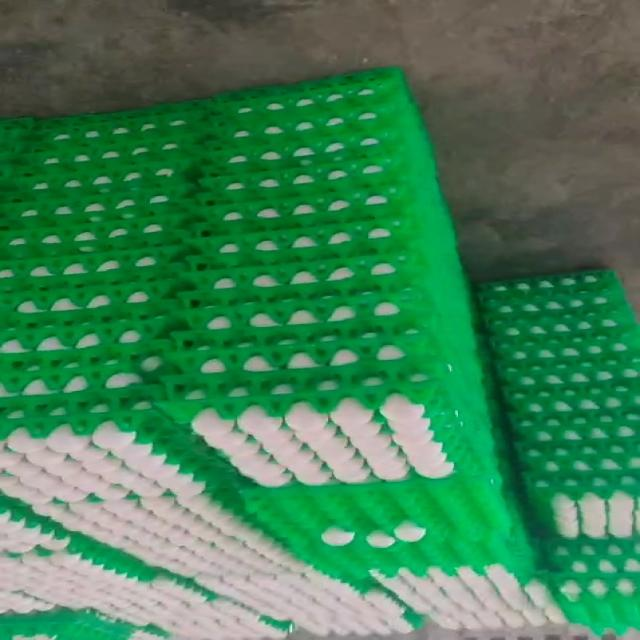egg_tray: (3, 421, 383, 632), (169, 187, 432, 407), (163, 287, 455, 485), (3, 414, 297, 587), (179, 185, 422, 379), (169, 229, 432, 407), (167, 246, 445, 414), (91, 498, 408, 634), (481, 272, 639, 535), (3, 70, 406, 168), (490, 272, 639, 536), (0, 503, 278, 638), (167, 282, 441, 410), (186, 185, 424, 329), (167, 293, 445, 406), (244, 474, 521, 580), (191, 168, 424, 294), (189, 178, 424, 301), (1, 127, 187, 279), (185, 189, 424, 307), (3, 389, 201, 529), (52, 495, 301, 605), (3, 440, 205, 573), (163, 325, 451, 416), (0, 249, 178, 394), (198, 148, 410, 269), (191, 389, 453, 486), (0, 551, 283, 639), (3, 389, 201, 512), (3, 385, 225, 486), (179, 258, 428, 345), (103, 503, 288, 617), (191, 185, 419, 277), (0, 200, 187, 312), (0, 281, 171, 397), (0, 184, 193, 285), (12, 104, 233, 192), (205, 87, 411, 180), (13, 103, 233, 190), (0, 246, 179, 352), (167, 324, 431, 395), (0, 191, 191, 288), (0, 269, 178, 372), (481, 272, 636, 390), (249, 486, 441, 579), (212, 70, 408, 157), (178, 281, 427, 349), (9, 105, 205, 191), (194, 185, 407, 264), (12, 546, 205, 632), (205, 150, 406, 230), (195, 547, 383, 632), (507, 360, 639, 479), (506, 358, 639, 475), (499, 310, 639, 420), (518, 410, 639, 537), (0, 250, 179, 334), (519, 413, 639, 538), (0, 237, 185, 312), (431, 254, 495, 467), (494, 317, 636, 411), (3, 388, 159, 473), (202, 116, 403, 181), (499, 328, 639, 419), (230, 568, 415, 635), (375, 564, 565, 629), (490, 309, 637, 392), (431, 279, 495, 469), (313, 517, 509, 578), (0, 196, 183, 261), (3, 187, 185, 249), (515, 389, 639, 480), (16, 136, 198, 195), (209, 69, 406, 121), (3, 154, 195, 206), (202, 155, 396, 206), (201, 156, 404, 204), (0, 337, 161, 397), (498, 329, 637, 398), (0, 245, 182, 297), (8, 154, 193, 203), (491, 302, 632, 364), (501, 349, 639, 411), (0, 384, 161, 437), (21, 101, 206, 146), (198, 571, 329, 634), (138, 584, 287, 639), (546, 537, 637, 626), (0, 306, 166, 354), (528, 471, 639, 538), (479, 270, 623, 320), (292, 92, 404, 156), (316, 576, 422, 635), (521, 437, 639, 483), (552, 573, 639, 634), (0, 608, 169, 639), (307, 88, 392, 142), (0, 592, 96, 639), (517, 410, 639, 446), (544, 535, 639, 580), (0, 608, 137, 639), (32, 609, 167, 639), (0, 501, 68, 555), (349, 587, 422, 635), (8, 618, 169, 639), (59, 611, 166, 639), (43, 609, 133, 638), (0, 118, 36, 183), (0, 607, 72, 639), (0, 117, 36, 172), (56, 623, 166, 639), (0, 589, 54, 617), (3, 623, 87, 639), (278, 228, 353, 245), (94, 623, 167, 639), (228, 130, 258, 165), (90, 626, 165, 639), (174, 540, 205, 571), (233, 521, 262, 552), (4, 627, 74, 639), (151, 500, 186, 523), (313, 197, 348, 218), (260, 116, 288, 142), (260, 122, 289, 146), (118, 526, 145, 551), (213, 236, 245, 255), (194, 313, 232, 328), (125, 628, 169, 639), (131, 388, 151, 412), (291, 122, 316, 141), (202, 576, 228, 593), (11, 259, 42, 273), (1, 592, 33, 605), (64, 508, 87, 526), (129, 629, 169, 639), (214, 538, 233, 559), (178, 496, 205, 509), (134, 251, 155, 267), (236, 392, 258, 407), (86, 130, 99, 155), (336, 242, 362, 254), (141, 626, 165, 639), (449, 433, 463, 455), (142, 122, 157, 142), (230, 130, 250, 145), (216, 511, 232, 529), (139, 625, 165, 636), (163, 558, 185, 571), (261, 148, 277, 165), (355, 220, 382, 230), (324, 139, 343, 153), (384, 619, 404, 632), (262, 141, 277, 157), (236, 606, 254, 618), (360, 136, 378, 148), (402, 327, 416, 342), (565, 423, 584, 434), (102, 526, 114, 543), (580, 398, 597, 410), (295, 144, 312, 156), (245, 234, 265, 244), (360, 88, 375, 101), (333, 581, 344, 598), (387, 620, 402, 632), (364, 221, 382, 231), (360, 136, 378, 146), (254, 318, 276, 326), (268, 102, 284, 113), (33, 631, 55, 639), (107, 514, 122, 525), (246, 132, 257, 147), (502, 291, 511, 309), (240, 105, 258, 114), (335, 311, 351, 321), (327, 142, 343, 152), (88, 525, 102, 536), (273, 382, 287, 393), (357, 161, 372, 171), (149, 416, 159, 431), (195, 590, 210, 600), (167, 120, 183, 129), (212, 601, 224, 613), (210, 280, 228, 288), (78, 340, 98, 347), (141, 486, 155, 496), (68, 629, 82, 639), (52, 428, 67, 437), (70, 123, 80, 136), (270, 102, 283, 112), (319, 381, 333, 390), (287, 139, 301, 148), (122, 414, 133, 425), (40, 537, 52, 547), (261, 151, 276, 159), (118, 334, 135, 341), (296, 148, 315, 154), (190, 485, 202, 494), (91, 529, 103, 538), (297, 99, 312, 106), (233, 156, 248, 163), (363, 139, 378, 146), (603, 401, 616, 409), (122, 296, 142, 301), (52, 305, 72, 310), (329, 142, 339, 152), (187, 382, 197, 392), (352, 385, 362, 395), (102, 122, 111, 133), (252, 209, 261, 220), (285, 111, 296, 120), (66, 268, 82, 274), (296, 99, 312, 105), (185, 518, 197, 526), (165, 267, 175, 276), (99, 422, 108, 432), (604, 402, 619, 408), (232, 153, 241, 163), (9, 633, 24, 639), (139, 554, 151, 561), (627, 413, 636, 422), (380, 234, 390, 242), (451, 527, 461, 535), (16, 203, 32, 208), (382, 355, 398, 360), (225, 224, 238, 230), (332, 272, 343, 279), (261, 156, 276, 161), (256, 309, 268, 315), (580, 414, 588, 423), (79, 245, 91, 251), (179, 538, 187, 547), (396, 92, 404, 101), (5, 347, 19, 352), (167, 487, 177, 494), (64, 416, 74, 423), (94, 300, 104, 307), (554, 405, 568, 410), (234, 550, 245, 556), (123, 502, 134, 508), (96, 465, 107, 471), (241, 107, 252, 113), (228, 332, 236, 340), (548, 368, 556, 376), (584, 320, 593, 327), (337, 625, 344, 634), (226, 409, 238, 414), (66, 257, 76, 263), (424, 364, 434, 370), (42, 343, 52, 349), (285, 113, 295, 119), (370, 376, 376, 386), (60, 538, 67, 546), (126, 387, 134, 394), (308, 276, 316, 283), (139, 445, 147, 452), (300, 590, 308, 597), (182, 294, 193, 299), (226, 409, 237, 414), (233, 160, 244, 165), (11, 340, 20, 346), (3, 269, 9, 278), (274, 590, 280, 599), (396, 206, 402, 215), (236, 390, 246, 395), (345, 135, 352, 142), (391, 220, 398, 227), (147, 456, 155, 462), (260, 256, 268, 262), (74, 236, 82, 242), (261, 157, 273, 161), (110, 202, 118, 208), (229, 154, 237, 160), (217, 221, 225, 227), (391, 221, 400, 226), (146, 224, 161, 227), (67, 264, 76, 269), (208, 216, 217, 221), (324, 616, 329, 625), (0, 626, 4, 637), (40, 281, 51, 285), (304, 209, 315, 213), (87, 236, 94, 242), (104, 632, 110, 639), (558, 298, 565, 304), (183, 395, 197, 398), (225, 212, 232, 218), (414, 278, 420, 285), (154, 504, 161, 510), (54, 610, 64, 614), (42, 282, 52, 286), (56, 635, 66, 639), (491, 326, 499, 331), (210, 101, 214, 111), (378, 392, 383, 400), (54, 134, 67, 137), (398, 245, 404, 251), (129, 273, 135, 279), (79, 232, 91, 235), (283, 135, 289, 141), (246, 163, 253, 168), (237, 392, 248, 395), (94, 503, 102, 507), (178, 497, 183, 503), (249, 252, 254, 258), (175, 389, 181, 394), (297, 151, 303, 156), (108, 539, 115, 543), (214, 101, 218, 108), (87, 504, 91, 511), (288, 90, 295, 94), (37, 341, 42, 346), (129, 414, 134, 419), (213, 402, 218, 407), (289, 562, 293, 568), (201, 544, 205, 550), (177, 389, 181, 395), (220, 255, 226, 259), (270, 251, 278, 254), (341, 392, 347, 396), (155, 343, 159, 349), (245, 398, 249, 404), (155, 558, 161, 562), (159, 594, 163, 600), (297, 153, 303, 157), (183, 246, 187, 252), (220, 398, 224, 404), (376, 208, 382, 212), (236, 544, 240, 550), (165, 502, 169, 508), (43, 606, 50, 609), (39, 307, 46, 310), (241, 166, 248, 169), (578, 297, 585, 300), (182, 247, 186, 252), (11, 263, 16, 267), (434, 379, 438, 384), (276, 410, 281, 414), (159, 523, 163, 528), (98, 453, 103, 457), (209, 619, 214, 623), (237, 165, 242, 169), (289, 89, 293, 94), (258, 389, 262, 394), (145, 540, 150, 544), (303, 378, 308, 382), (201, 198, 205, 203), (174, 506, 178, 511), (569, 371, 578, 373), (236, 159, 242, 162), (70, 364, 76, 367), (386, 355, 392, 358), (588, 400, 594, 403), (558, 408, 566, 410), (187, 141, 191, 145), (175, 531, 179, 535), (84, 628, 88, 632), (297, 276, 301, 280), (265, 596, 269, 600), (98, 264, 102, 268), (189, 525, 193, 529), (143, 501, 147, 505), (581, 373, 585, 377), (387, 357, 395, 359), (185, 294, 190, 297), (295, 205, 300, 208), (260, 608, 265, 611), (111, 540, 116, 543), (165, 425, 167, 432), (175, 507, 179, 510), (222, 209, 226, 212), (554, 420, 560, 422), (292, 247, 295, 251), (4, 461, 8, 464), (395, 518, 399, 521), (246, 634, 252, 636), (242, 166, 246, 169), (201, 193, 204, 197), (303, 326, 307, 329), (199, 523, 201, 529), (94, 507, 98, 510), (128, 443, 130, 448), (232, 258, 234, 263), (149, 367, 154, 369), (593, 296, 598, 298), (214, 169, 216, 174), (407, 327, 412, 329), (390, 319, 395, 321), (202, 392, 205, 395), (307, 248, 311, 250), (99, 258, 103, 260), (142, 508, 146, 510), (339, 632, 343, 634), (391, 362, 395, 364), (238, 122, 240, 126), (398, 177, 402, 179), (616, 349, 623, 350), (297, 367, 304, 368), (13, 525, 15, 528), (190, 395, 196, 396), (266, 632, 268, 635), (246, 158, 248, 161), (214, 169, 216, 172), (629, 316, 631, 319), (396, 321, 399, 323), (400, 206, 402, 209), (291, 573, 297, 574), (59, 638, 64, 639), (598, 379, 600, 381), (195, 518, 197, 520), (22, 549, 26, 550), (23, 539, 24, 543), (80, 527, 84, 528), (380, 312, 382, 314), (353, 162, 355, 164), (186, 384, 188, 386), (13, 120, 15, 122), (627, 532, 629, 534), (17, 249, 19, 251), (68, 344, 70, 346), (155, 424, 157, 426), (399, 382, 400, 386), (190, 395, 194, 396), (146, 522, 147, 526), (88, 397, 90, 399), (103, 268, 105, 270), (72, 638, 74, 640), (240, 635, 244, 636), (175, 282, 177, 284), (14, 360, 18, 361), (317, 148, 319, 150), (256, 104, 257, 108), (404, 371, 406, 373), (215, 349, 217, 351), (343, 362, 347, 363), (242, 296, 244, 298), (347, 378, 348, 382), (49, 606, 51, 608), (493, 471, 495, 473), (355, 392, 356, 395), (189, 202, 190, 205), (154, 446, 155, 449), (67, 148, 68, 151), (102, 135, 103, 138), (284, 407, 285, 410), (391, 221, 392, 224), (141, 409, 142, 412), (142, 416, 145, 417), (103, 496, 106, 497), (78, 476, 79, 479), (307, 109, 308, 112), (285, 100, 288, 101), (554, 298, 557, 299), (422, 377, 423, 380), (382, 353, 383, 356), (325, 340, 328, 341), (280, 396, 281, 399), (217, 222, 218, 225), (220, 284, 221, 287), (7, 620, 8, 622), (186, 518, 188, 519), (56, 547, 58, 548), (37, 529, 39, 530), (400, 238, 402, 239), (494, 285, 495, 287), (66, 237, 67, 239), (101, 262, 103, 263), (70, 418, 71, 420), (344, 328, 346, 329), (21, 196, 23, 197), (102, 142, 103, 144), (150, 118, 151, 120), (372, 207, 374, 208), (279, 408, 281, 409), (226, 567, 228, 568), (266, 545, 268, 546), (135, 467, 137, 468), (94, 420, 96, 421), (88, 549, 90, 550), (229, 273, 230, 275), (344, 272, 346, 273), (260, 162, 261, 164), (383, 133, 384, 135), (33, 209, 35, 210), (146, 202, 147, 204), (88, 491, 90, 492), (8, 635, 9, 637), (426, 307, 428, 308), (394, 123, 395, 125), (392, 113, 394, 114), (128, 627, 130, 628), (530, 382, 532, 383), (415, 379, 416, 381), (422, 373, 423, 375), (124, 636, 126, 637), (256, 369, 258, 370), (155, 560, 157, 561), (404, 527, 406, 528), (244, 117, 245, 119), (236, 412, 237, 414), (303, 216, 305, 217), (340, 207, 342, 208), (368, 585, 370, 586), (234, 327, 236, 328), (222, 309, 224, 310), (58, 636, 60, 637), (280, 554, 281, 555), (564, 421, 565, 422), (241, 254, 242, 255), (272, 235, 273, 236), (324, 402, 325, 403), (442, 365, 443, 366), (16, 336, 17, 337), (154, 429, 155, 430), (272, 236, 273, 237), (3, 332, 4, 333), (66, 267, 67, 268), (257, 634, 258, 635), (249, 625, 250, 626), (300, 282, 301, 283), (149, 154, 150, 155), (8, 360, 9, 361), (311, 109, 312, 110), (7, 371, 8, 372), (16, 365, 17, 366), (320, 381, 321, 382), (398, 196, 399, 197), (209, 389, 210, 390), (300, 211, 301, 212), (241, 207, 242, 208), (276, 396, 277, 397), (300, 276, 301, 277), (27, 636, 28, 637), (78, 509, 79, 510), (86, 230, 88, 230), (305, 572, 307, 572), (280, 410, 281, 410), (116, 432, 118, 432), (88, 352, 90, 352), (321, 170, 323, 170)
